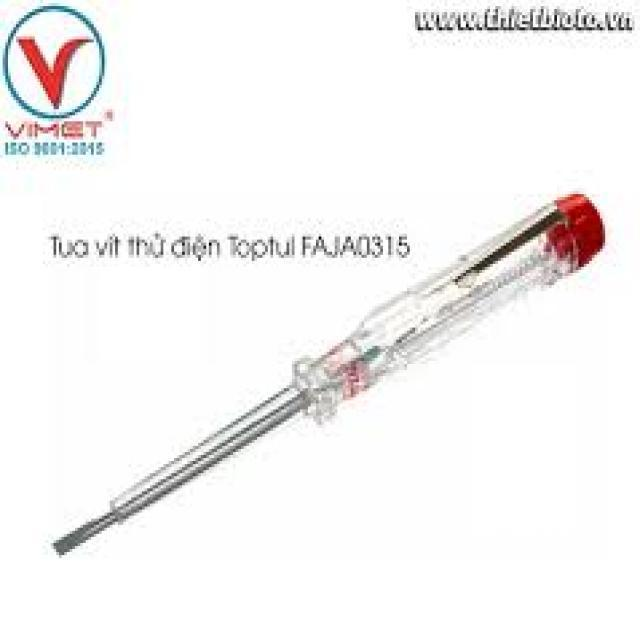screwdriver: (48, 191, 608, 555)
